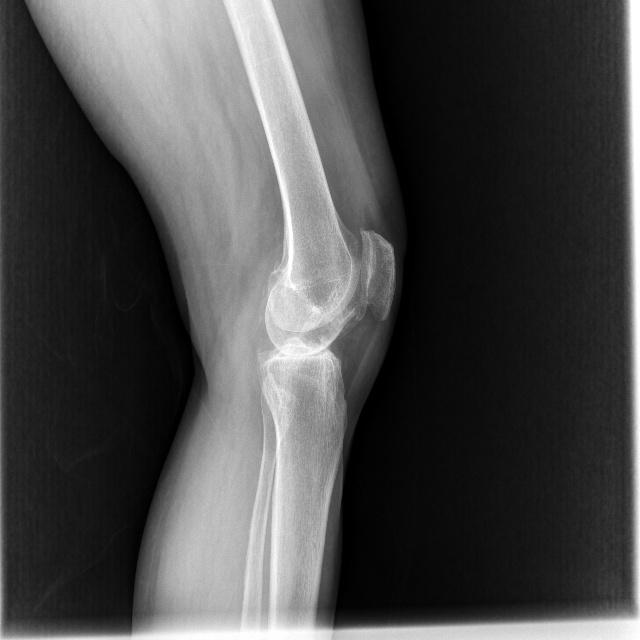Knee: (252, 222, 394, 427)
